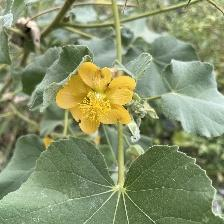indian mallow: (56, 62, 140, 136)
